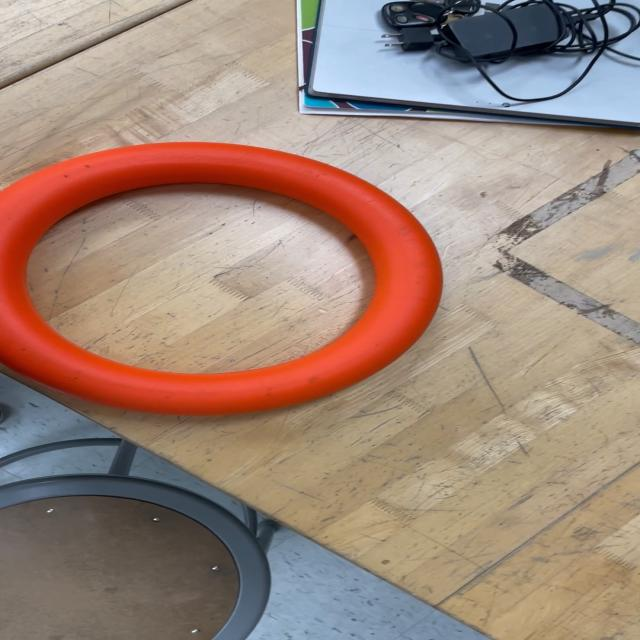note: (0, 138, 446, 419)
